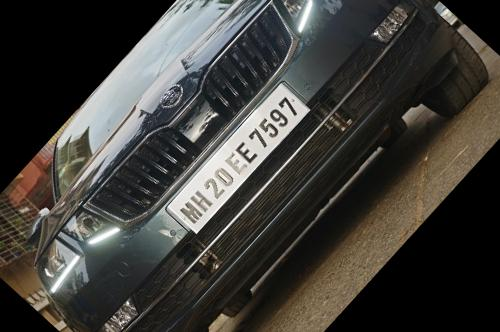plate: (139, 57, 340, 266)
